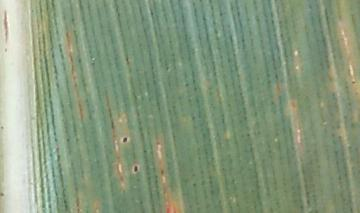tarspot: (2, 7, 10, 43), (120, 135, 129, 144), (131, 163, 139, 173), (349, 76, 357, 85), (2, 45, 9, 53), (159, 168, 165, 176), (191, 180, 197, 188), (1, 122, 5, 131), (1, 191, 6, 198)
